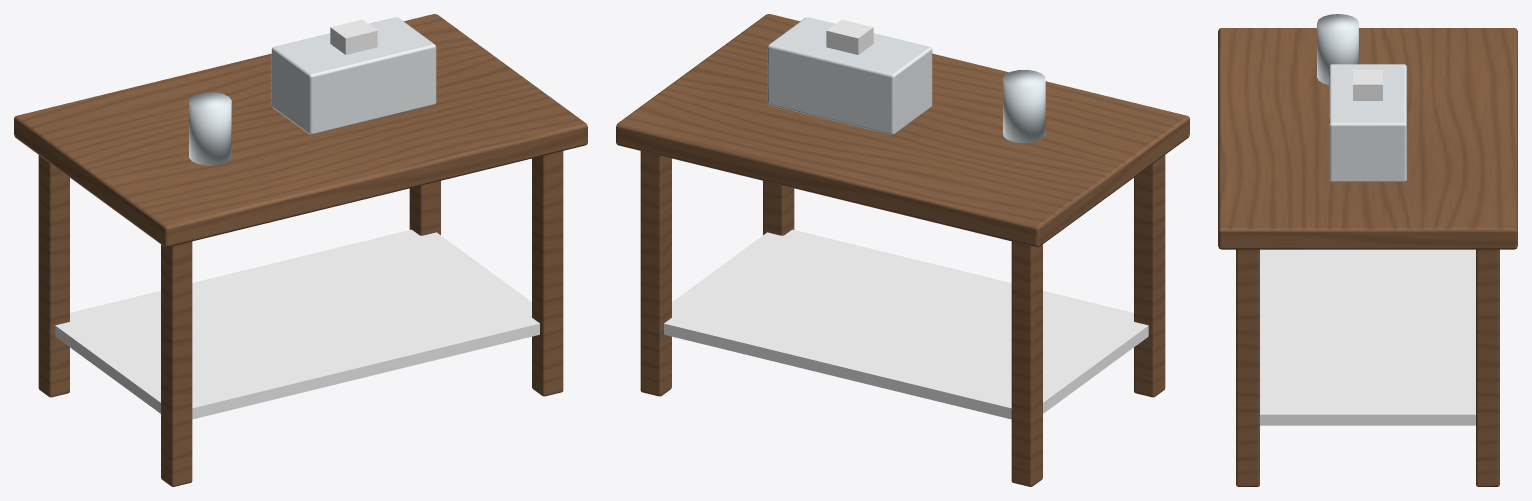
File: consulta.mesa_centro.fbx
3 renders of one model, left to right at view 1: azimuth 30°, elevation 25°; view 2: azimuth 150°, elevation 25°; view 3: azimuth 270°, elevation 25°, orthographic. The views are drawn at different scales.
Parts seen in each view (by area): view 1: Cubierta, Repisa, Panuelos, Pata.003, Pata.001, Pata.002, Vaso de agua, Pata, Panuelo; view 2: Cubierta, Repisa, Panuelos, Pata.002, Pata, Pata.003, Vaso de agua, Pata.001, Panuelo; view 3: Cubierta, Repisa, Panuelos, Pata, Pata.001, Vaso de agua, Panuelo.
Part boxes in pixels (x1,y1,x2,y2): Cubierta: [14, 14, 587, 247]; Repisa: [55, 229, 539, 419]; Panuelos: [271, 17, 436, 134]; Pata.003: [161, 241, 192, 486]; Pata.001: [532, 151, 563, 396]; Pata.002: [38, 155, 69, 397]; Vaso de agua: [189, 92, 231, 165]; Pata: [409, 181, 440, 235]; Panuelo: [330, 19, 377, 54]; Cubierta: [616, 14, 1189, 247]; Repisa: [664, 229, 1148, 419]; Panuelos: [767, 17, 932, 134]; Pata.002: [1011, 241, 1042, 486]; Pata: [640, 151, 671, 396]; Pata.003: [1134, 155, 1165, 397]; Vaso de agua: [1003, 70, 1045, 143]; Pata.001: [763, 181, 794, 235]; Panuelo: [826, 19, 873, 54]; Cubierta: [1218, 28, 1517, 249]; Repisa: [1260, 249, 1475, 425]; Panuelos: [1329, 64, 1406, 182]; Pata: [1476, 249, 1499, 486]; Pata.001: [1236, 249, 1259, 486]; Vaso de agua: [1317, 14, 1358, 84]; Panuelo: [1353, 69, 1382, 100].
Bounding box in the file's own units: 0.8 × 0.63 × 0.5.
Materials: 5 (1 with a texture image).
